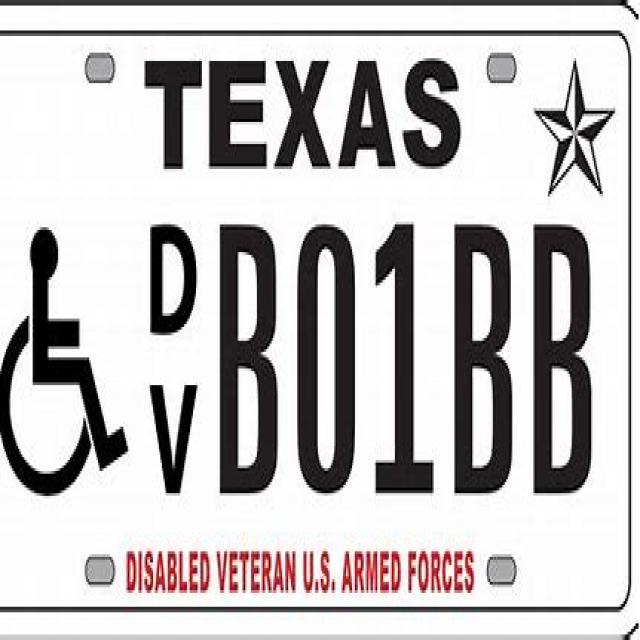car-handicap-placard: (0, 221, 132, 504)
